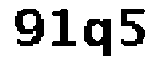1: (49, 7, 81, 50)
5: (119, 6, 148, 54)
9: (10, 5, 48, 51)
q: (83, 19, 116, 60)
